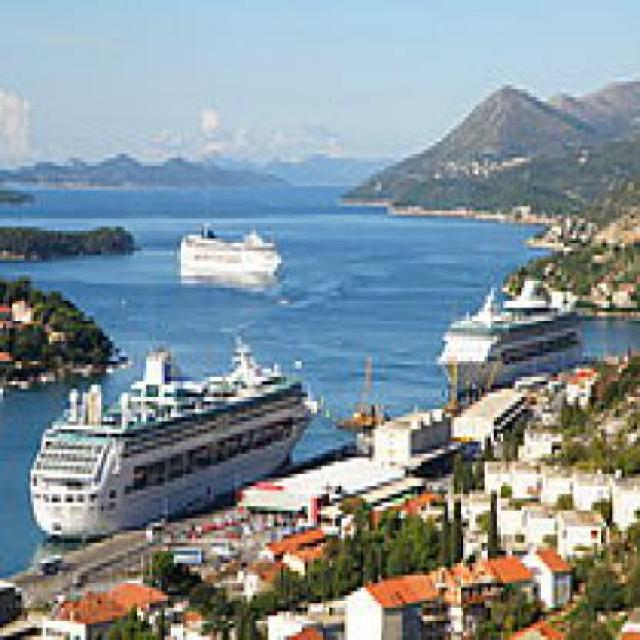cruise: (20, 325, 331, 540), (440, 272, 599, 398), (169, 211, 296, 293)
